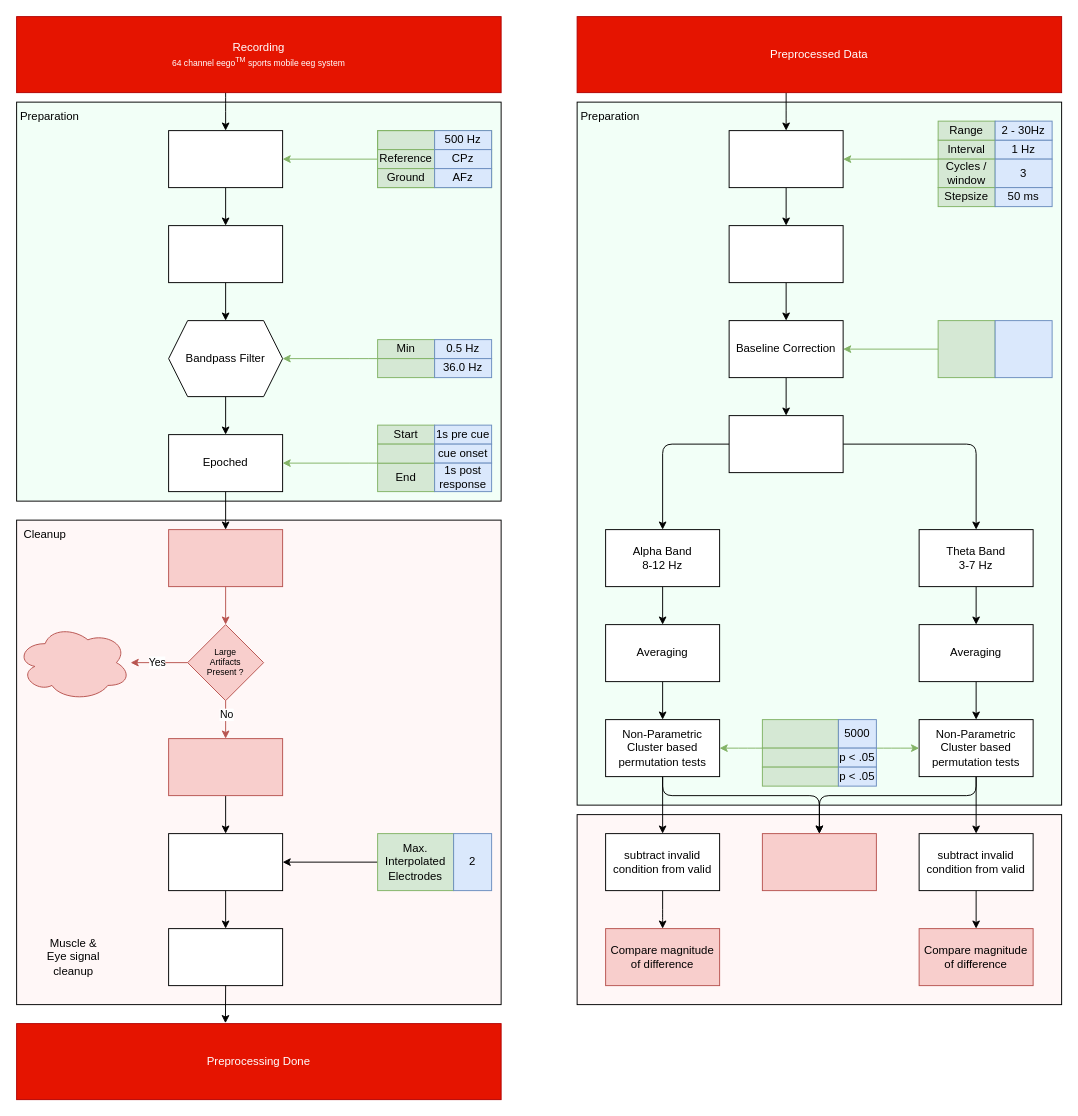
Some shapes in this 1078 by 1116 pixel diagram are drawn without their labels. Each missing label, with the box of its shape:
500 ms - 100 ms pre cue: (994, 320, 1052, 378)
Analysis: (761, 833, 876, 891)
Artifact Inspection: (168, 529, 283, 587)
At: (937, 320, 995, 378)
Average within Condition: (728, 225, 843, 283)
cluster alpha: (761, 747, 838, 767)
critical alpha: (761, 766, 838, 786)
Detrending: (168, 225, 283, 283)
Digitisation: (168, 130, 283, 188)
Discard: (16, 624, 131, 701)
FastICA: (168, 928, 283, 986)
Frequency: (377, 130, 435, 150)
Identify Corrupted Electrodes: (168, 738, 283, 796)
Interpolate Corrupted Electrodes: (168, 833, 283, 891)
Max: (377, 358, 435, 378)
Morlet Wavelet Transform: (728, 130, 843, 188)
Nullpunkt: (377, 443, 435, 463)
Permutation Count: (761, 719, 838, 748)
Time-Frequency Representation Generated: (728, 415, 843, 473)
